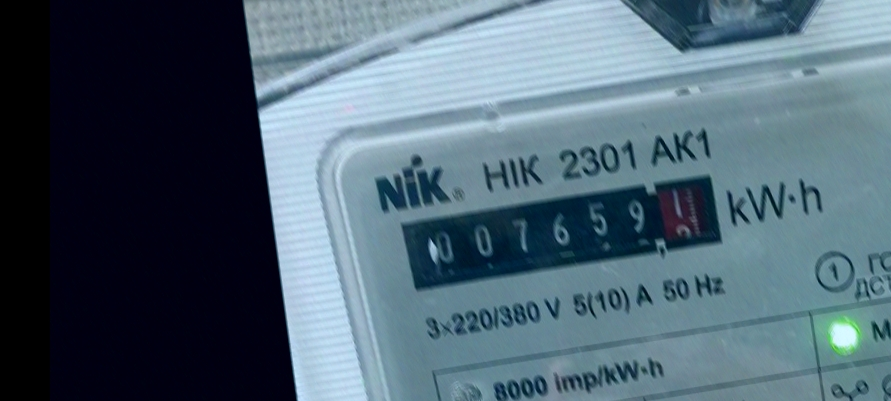0: (472, 219, 500, 259), (434, 225, 460, 266)
1: (669, 182, 690, 220)
5: (588, 198, 613, 237)
6: (549, 208, 576, 247)
7: (510, 213, 536, 254)
9: (626, 195, 652, 234)
screen: (393, 166, 736, 299)
